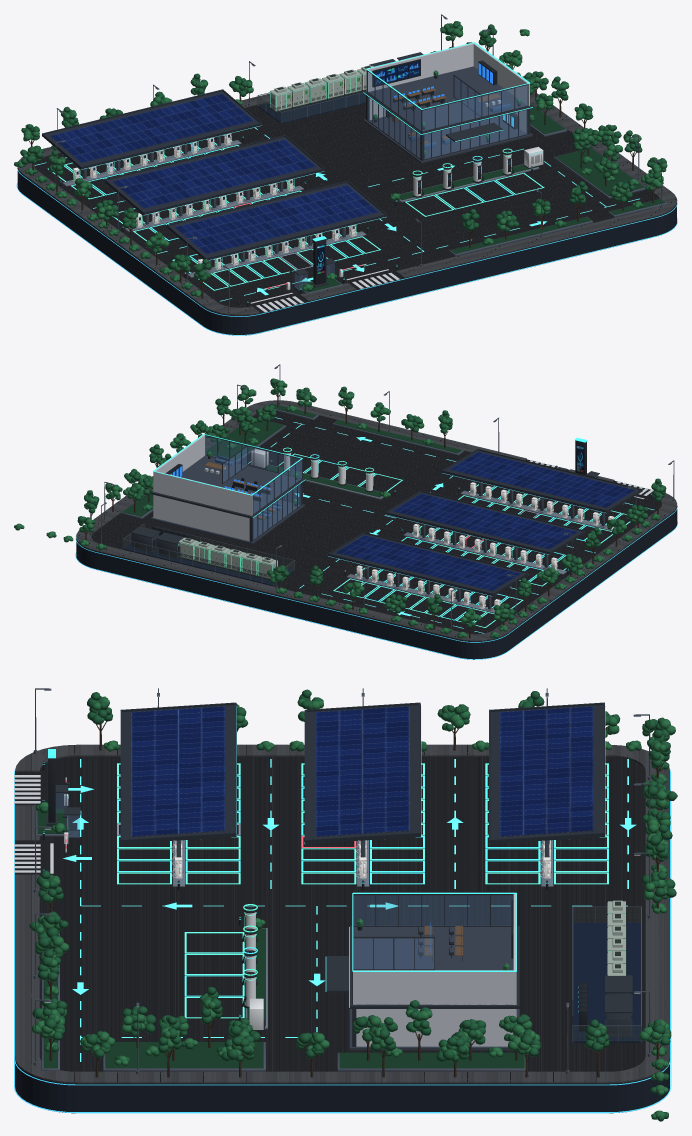
The model's file is station.glb.
3 views of the same model, one above another, from view 1: azimuth 30°, elevation 25°; view 2: azimuth 150°, elevation 25°; view 3: azimuth 270°, elevation 25° (orthographic). The views are drawn at different scales.
Visible parts, largest first — view 1: ground, service_building, sidewalk, canopy_F2_pv, canopy_F3_pv, canopy_F1_pv, planters, canopy_F2_frame, canopy_F1_frame, canopy_F3_frame, energy_fence, energy_pad (+11 smaller); view 2: ground, service_building, sidewalk, canopy_F2_pv, canopy_F3_pv, canopy_F1_pv, planters, canopy_F2_frame, canopy_F3_frame, canopy_F1_frame, energy_fence, energy_pad (+10 smaller); view 3: ground, service_building, sidewalk, canopy_F1_pv, canopy_F2_pv, canopy_F3_pv, planters, energy_pad, canopy_F1_frame, canopy_F2_frame, canopy_F3_frame, lane_marks (+29 smaller).
Part boxes in pixels (<box>): ground: <box>17,102,676,335</box>; service_building: <box>363,43,532,163</box>; sidewalk: <box>17,92,676,315</box>; canopy_F2_pv: <box>112,139,316,208</box>; canopy_F3_pv: <box>175,185,378,254</box>; canopy_F1_pv: <box>50,93,253,162</box>; planters: <box>449,102,667,256</box>; canopy_F2_frame: <box>104,135,324,226</box>; canopy_F1_frame: <box>42,89,262,180</box>; canopy_F3_frame: <box>166,180,386,271</box>; energy_fence: <box>257,92,365,123</box>; energy_pad: <box>258,91,365,123</box>; ground: <box>76,411,677,659</box>; service_building: <box>151,434,304,544</box>; sidewalk: <box>76,400,676,641</box>; canopy_F2_pv: <box>392,493,577,549</box>; canopy_F3_pv: <box>449,452,634,507</box>; canopy_F1_pv: <box>335,535,521,591</box>; planters: <box>121,403,463,519</box>; canopy_F2_frame: <box>385,490,585,569</box>; canopy_F3_frame: <box>441,449,642,527</box>; canopy_F1_frame: <box>328,532,528,610</box>; energy_fence: <box>122,523,294,586</box>; energy_pad: <box>123,543,294,585</box>; ground: <box>15,756,669,1113</box>; service_building: <box>326,894,519,1050</box>; sidewalk: <box>15,744,669,1083</box>; canopy_F1_pv: <box>500,706,593,836</box>; canopy_F2_pv: <box>316,706,409,836</box>; canopy_F3_pv: <box>131,706,224,836</box>; planters: <box>41,930,525,1071</box>; energy_pad: <box>573,922,640,1042</box>; canopy_F1_frame: <box>489,702,605,872</box>; canopy_F2_frame: <box>304,702,420,872</box>; canopy_F3_frame: <box>120,702,236,872</box>; lane_marks: <box>63,759,636,1061</box>.
Size of the model in its own units: 88 by 11.63 by 64.88.
51 materials, 10 textured.
